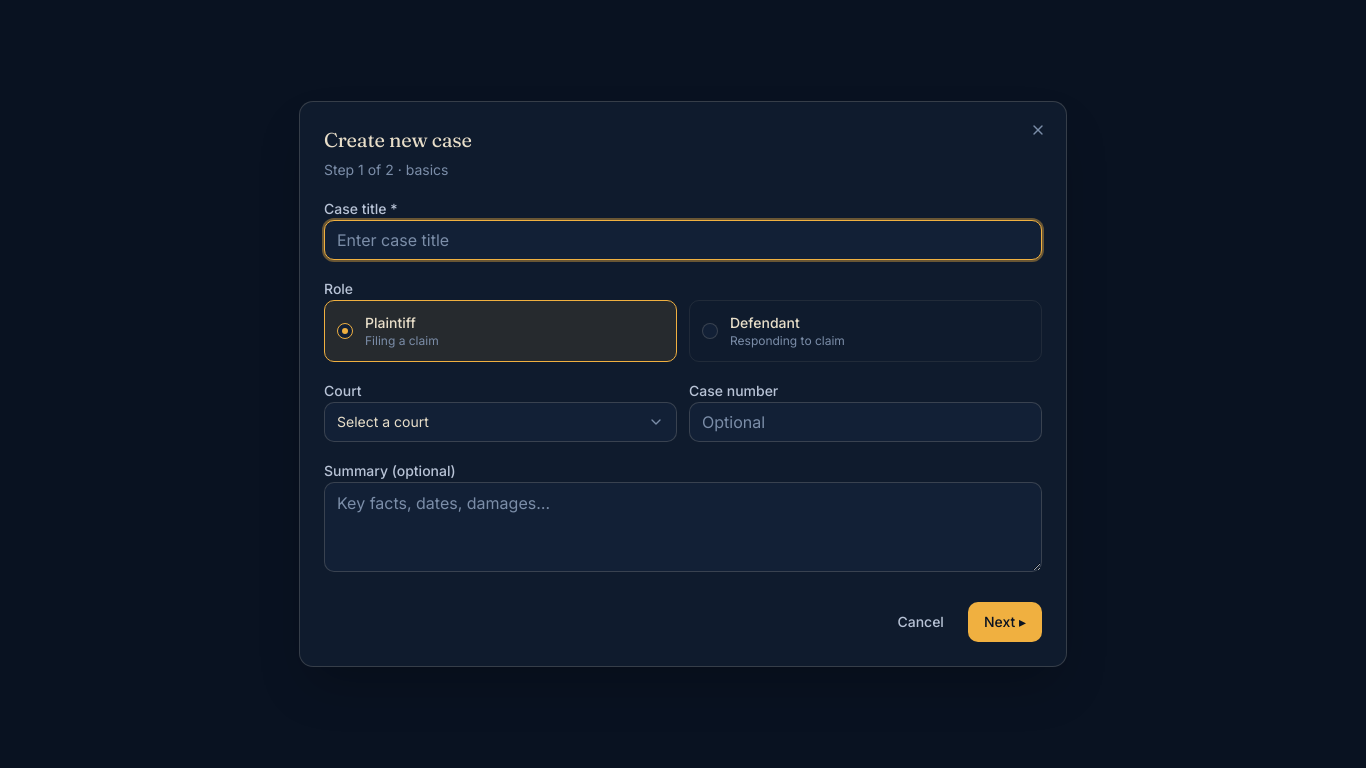
Test: CreateCaseDialog › blocks Next when title is blank
Click the button "Next ▸". click: (1005, 622)
box: left=968, top=602, right=1042, bottom=642
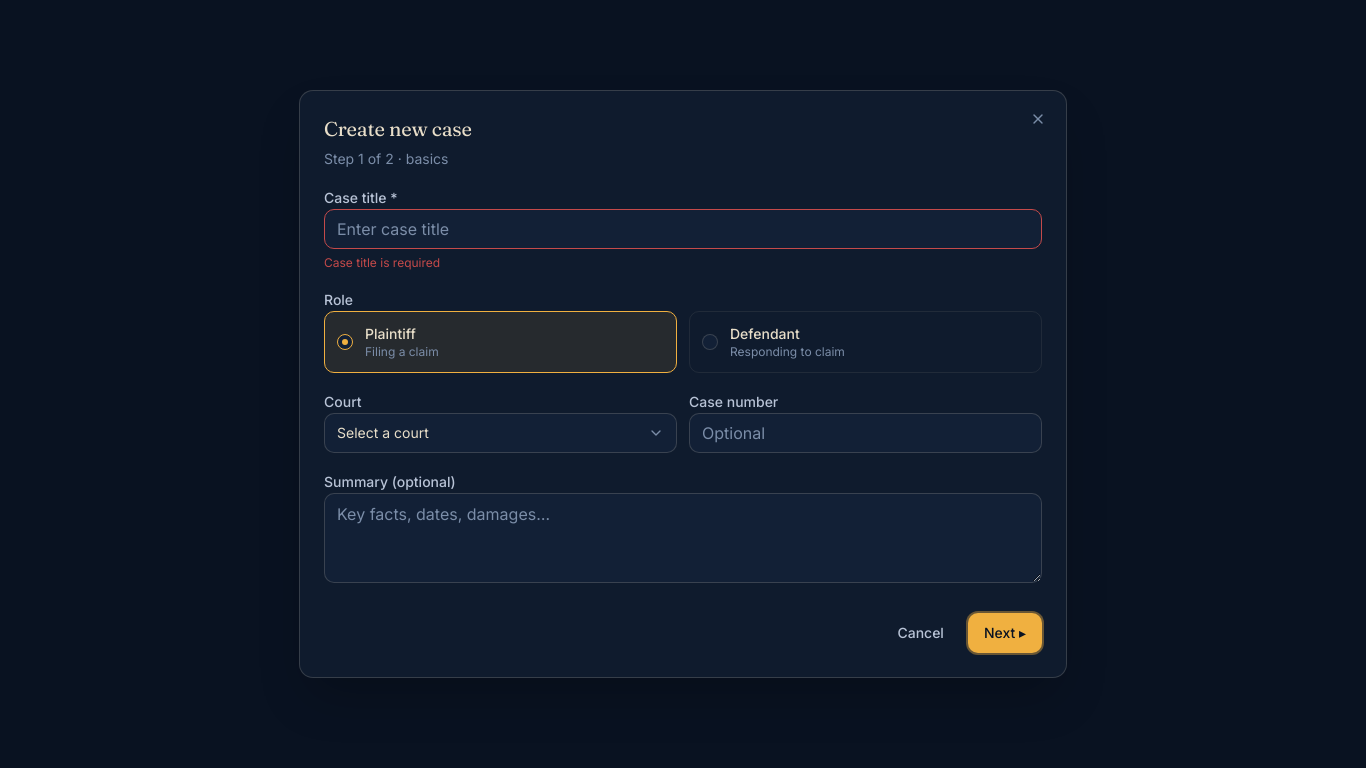
Result: the text "Case title is required" is shown at left=324, top=255, right=440, bottom=270
